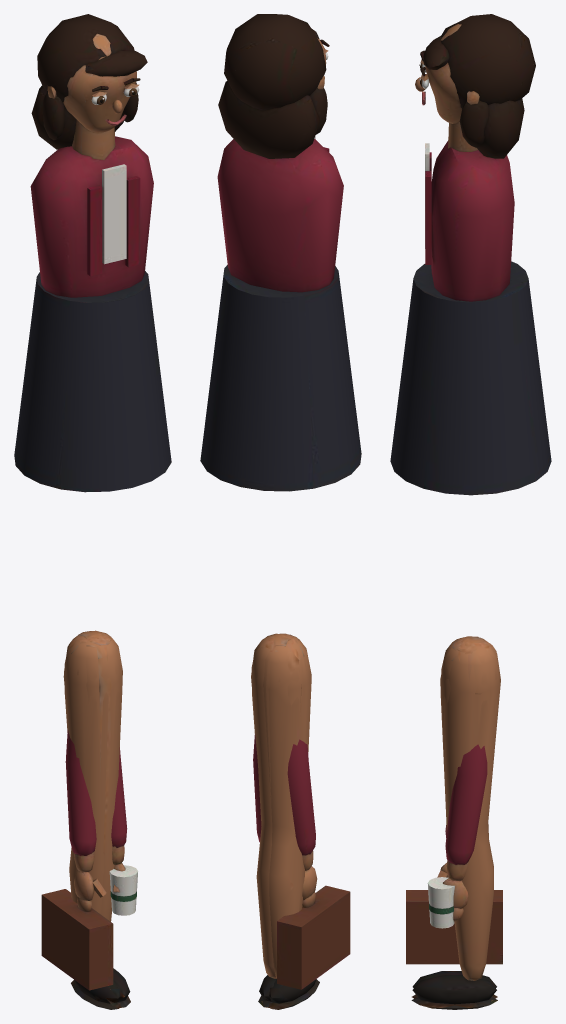
File: ejecutiva.glb
3 views of the same model, side by side, from view 1: azimuth 30°, elevation 25°; view 2: azimuth 150°, elevation 25°; view 3: azimuth 270°, elevation 25° (orthographic). The views are drawn at different scales.
Parts seen in each view (by area): view 1: ejecutiva_cuerpo, ejecutiva_brazo_i, ejecutiva_pierna_i, ejecutiva_pierna_d, ejecutiva_brazo_d; view 2: ejecutiva_cuerpo, ejecutiva_pierna_i, ejecutiva_brazo_i, ejecutiva_pierna_d, ejecutiva_brazo_d; view 3: ejecutiva_cuerpo, ejecutiva_pierna_d, ejecutiva_brazo_d, ejecutiva_brazo_i, ejecutiva_pierna_i.
Part boxes in pixels (left/top/right/bottom): ejecutiva_cuerpo: left=14, top=14, right=171, bottom=492; ejecutiva_brazo_i: left=41, top=729, right=113, bottom=990; ejecutiva_pierna_i: left=64, top=630, right=121, bottom=1009; ejecutiva_pierna_d: left=63, top=631, right=130, bottom=1007; ejecutiva_brazo_d: left=109, top=747, right=137, bottom=915; ejecutiva_cuerpo: left=200, top=14, right=361, bottom=491; ejecutiva_pierna_i: left=251, top=633, right=319, bottom=1009; ejecutiva_brazo_i: left=277, top=739, right=350, bottom=989; ejecutiva_pierna_d: left=251, top=633, right=310, bottom=1007; ejecutiva_brazo_d: left=253, top=735, right=261, bottom=842; ejecutiva_cuerpo: left=390, top=14, right=551, bottom=495; ejecutiva_pierna_d: left=411, top=636, right=500, bottom=1009; ejecutiva_brazo_d: left=427, top=744, right=487, bottom=928; ejecutiva_brazo_i: left=406, top=825, right=502, bottom=964; ejecutiva_pierna_i: left=412, top=636, right=500, bottom=998.
Size of the model in its own units: 0.3876 by 2.61 by 0.3876.
5 materials, 5 textured.
